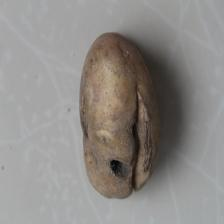Damaged potato: (77, 29, 162, 201)
